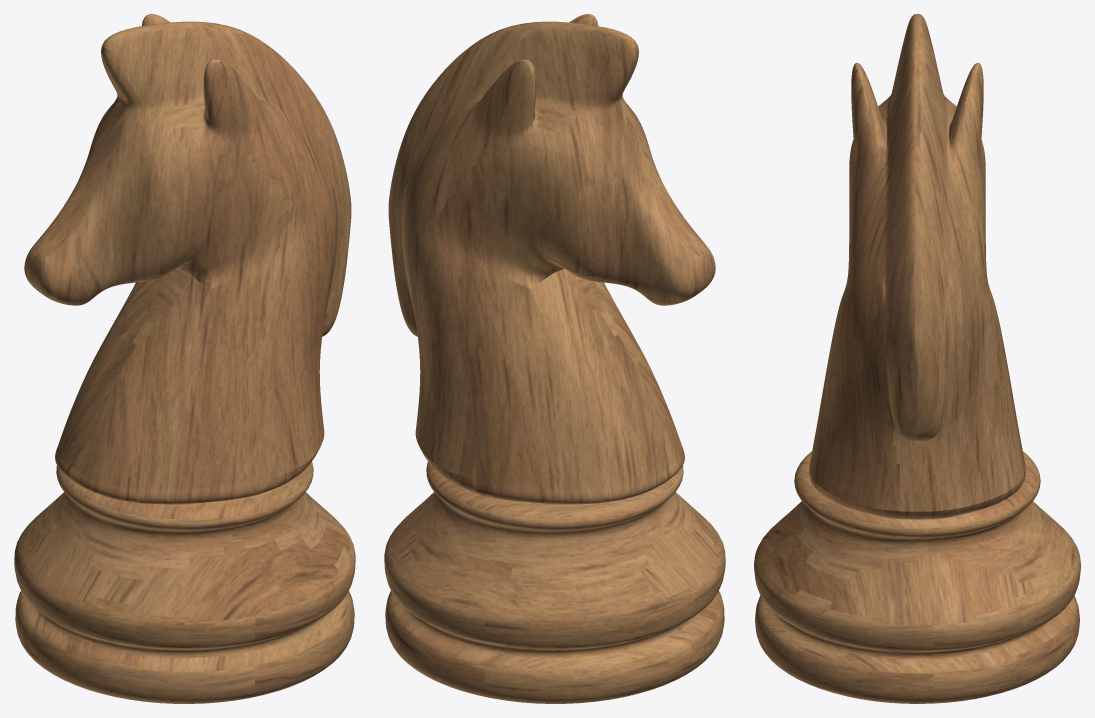
File: 白ナイト.fbx
The picture shows the model from 3 angles, left to right: view 1: azimuth 30°, elevation 25°; view 2: azimuth 150°, elevation 25°; view 3: azimuth 270°, elevation 25°; orthographic projection. The views are drawn at different scales.
Visible parts, largest first — view 1: 白ナイト2; view 2: 白ナイト2; view 3: 白ナイト2.
Part boxes in pixels (bbox=[...]): 白ナイト2: bbox=[14, 14, 355, 703]; 白ナイト2: bbox=[384, 14, 725, 703]; 白ナイト2: bbox=[754, 14, 1080, 703].
Size of the model in its own units: 2.42 by 4.6 by 2.26.
